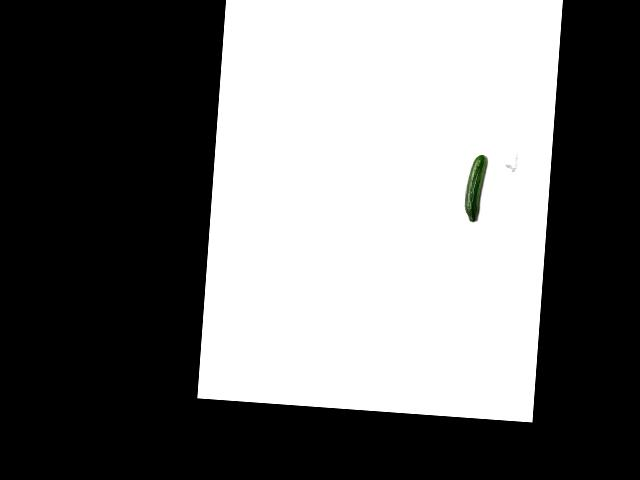cucumber: (464, 153, 487, 222)
